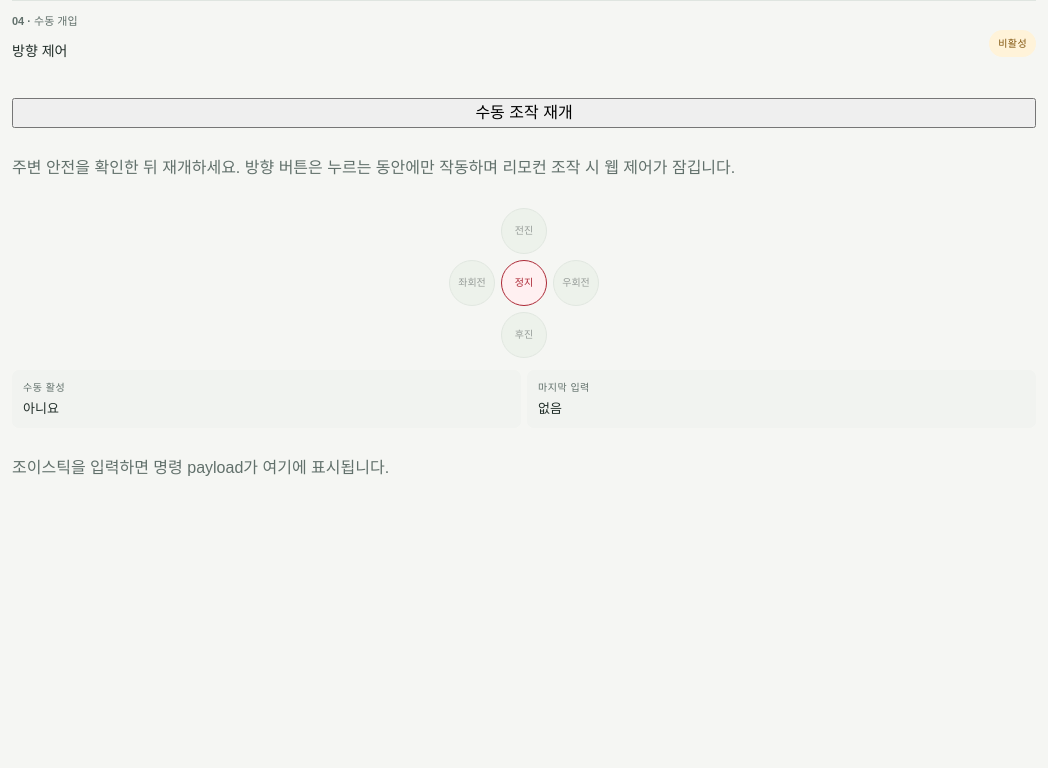
Test case: ManualJoystick 입력 수명 › 장비가 리모컨 개입으로 잠겼다고 알리면 버튼을 비활성화한다
What coordinates should you click on to do the following:
click the button "수동 조작 재개"
I would click on:
 (524, 113)
Its box is x1=12 y1=98 x2=1036 y2=128.
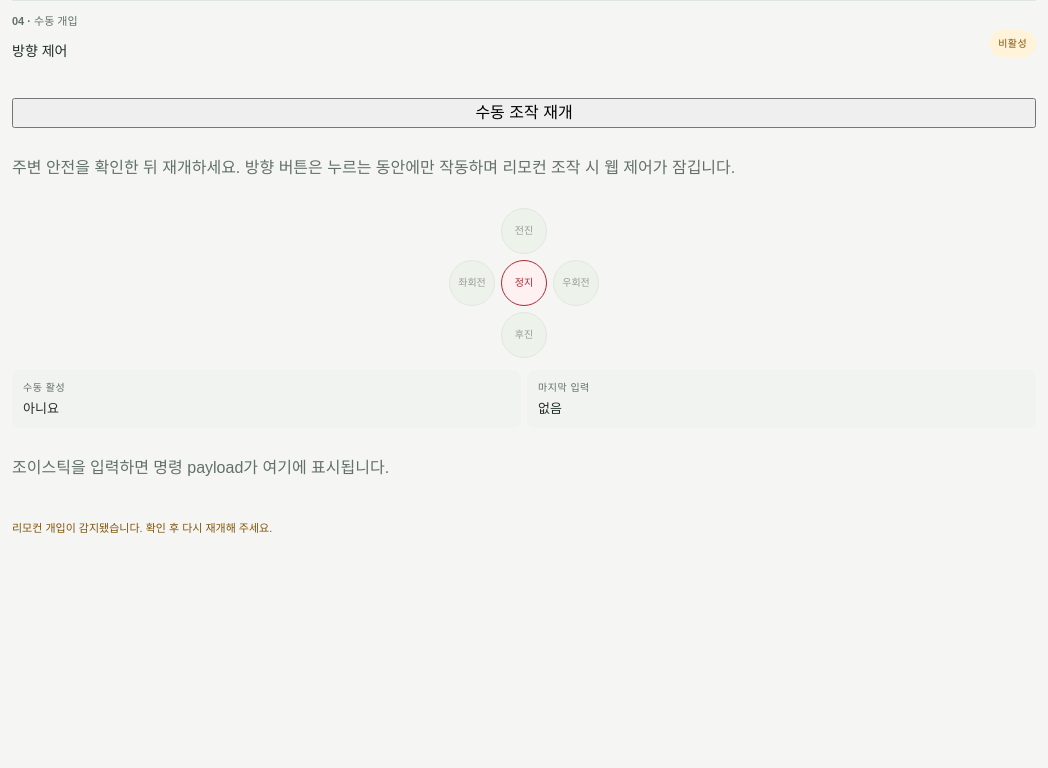
Expected: the button with aria-label "수동 전진" is disabled, x1=501 y1=208 x2=547 y2=254
Expected: the text "리모컨 개입이 감지됐습니다. 확인 후 다시 재개해 주세요." is shown, x1=12 y1=522 x2=272 y2=534
